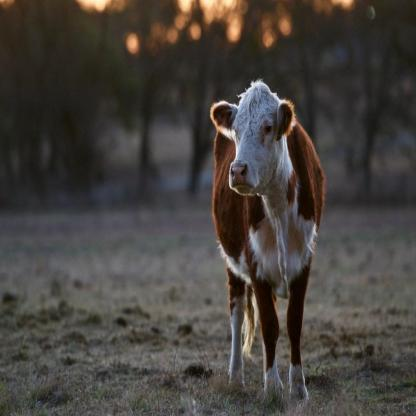cow: (211, 81, 324, 402)
